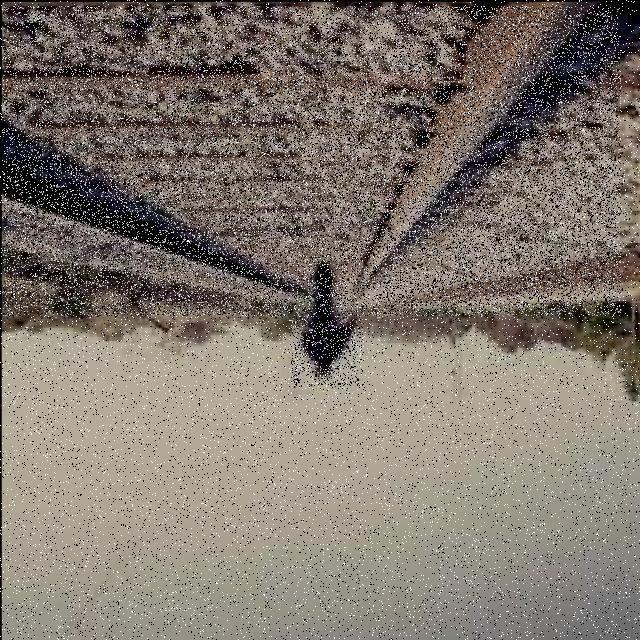rail: (5, 8, 622, 317)
